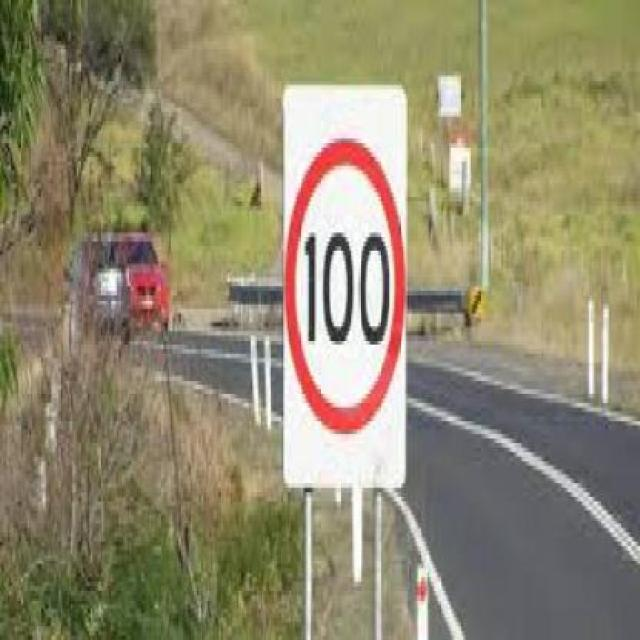forb_speed_over_100: (286, 140, 403, 435)
